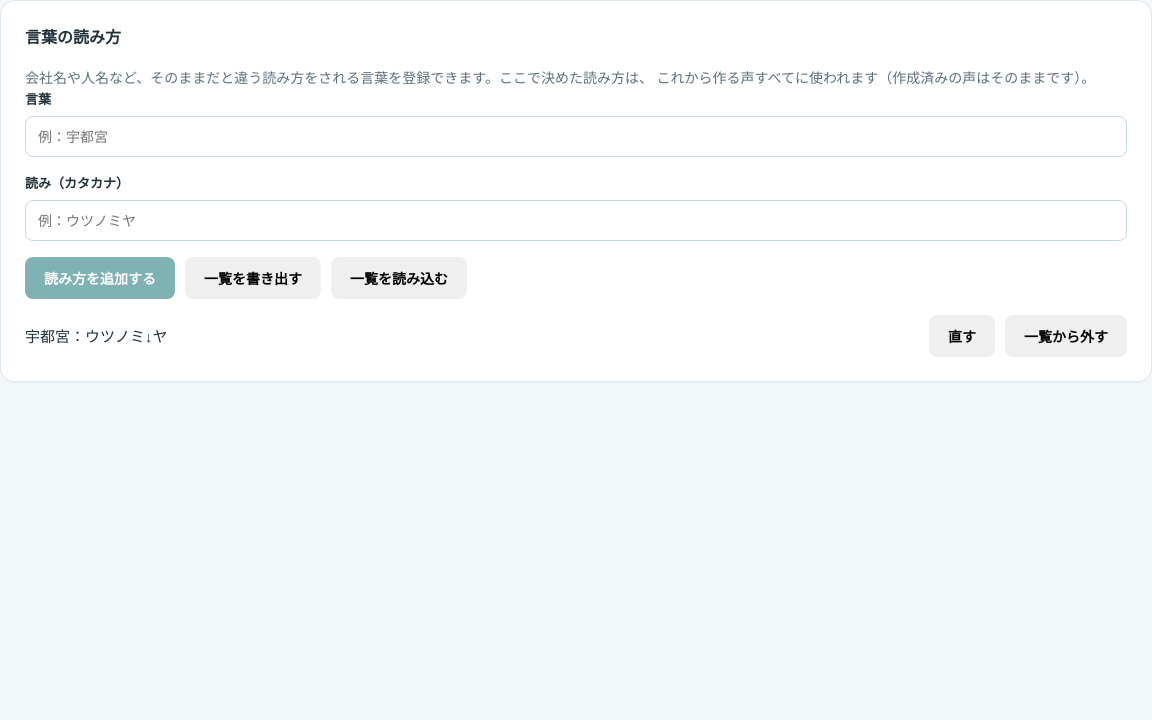
it: ReadingDictSection 直している語を示す › 「直す」を押すと、その行に印が付き、欄にも名前が出る
Click the button "直す": (962, 336) [929,315,995,357]
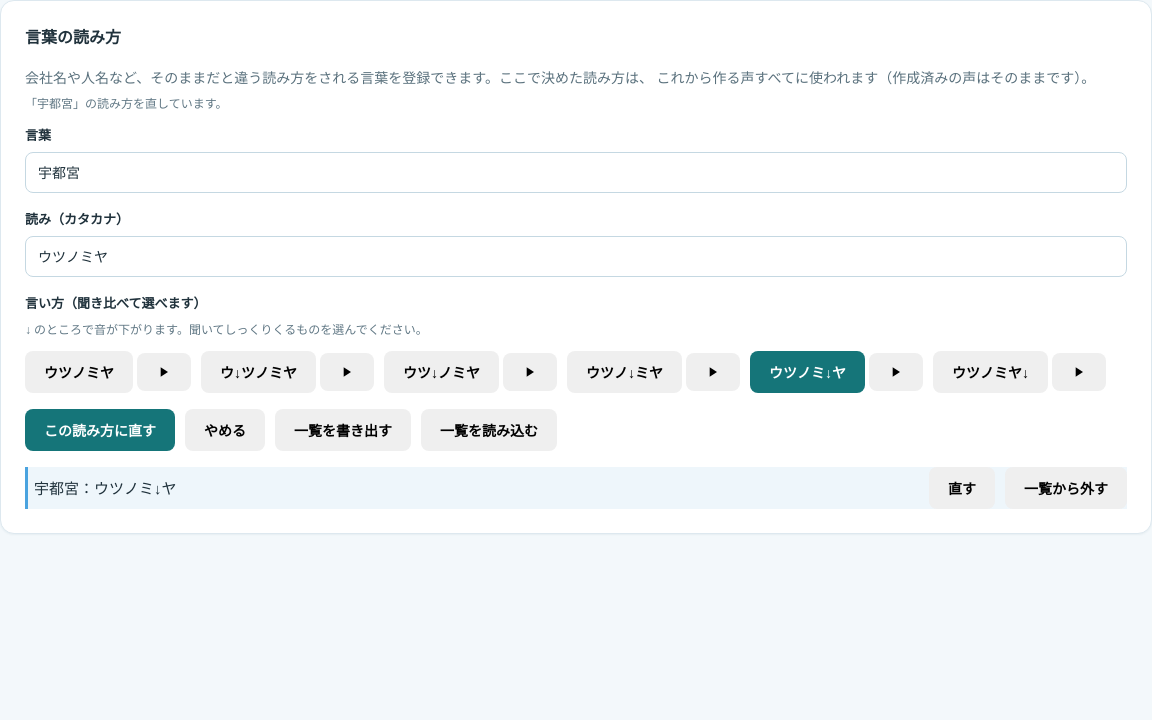
Expected: the text "「宇都宮」の読み方を直しています。" is shown, [25,95,228,112]
